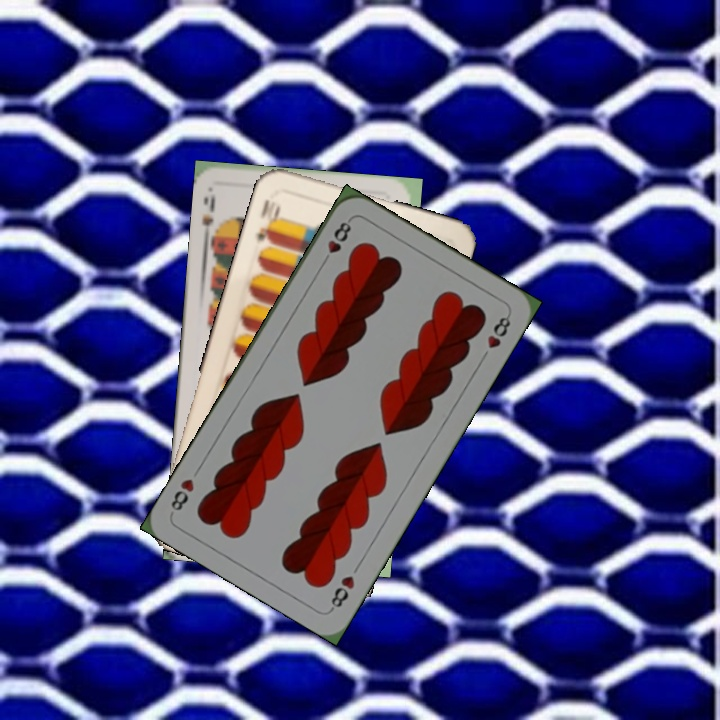E10: (252, 195, 283, 246)
H8: (317, 216, 354, 269), (326, 571, 358, 613)
S9: (198, 186, 223, 246)
